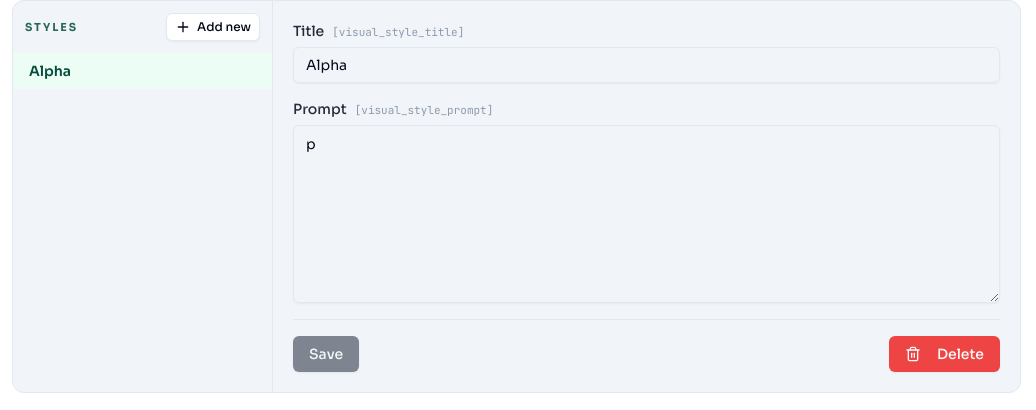
Test: VisualStyleGallery — create flow › "Add new" opens an empty pane with title/prompt cleared
Expected: the field showing "Alpha" is shown, top-left (293, 47), bottom-right (1000, 83)
Click the button "Add new". click: [213, 27]
box: top-left (166, 13), bottom-right (260, 41)
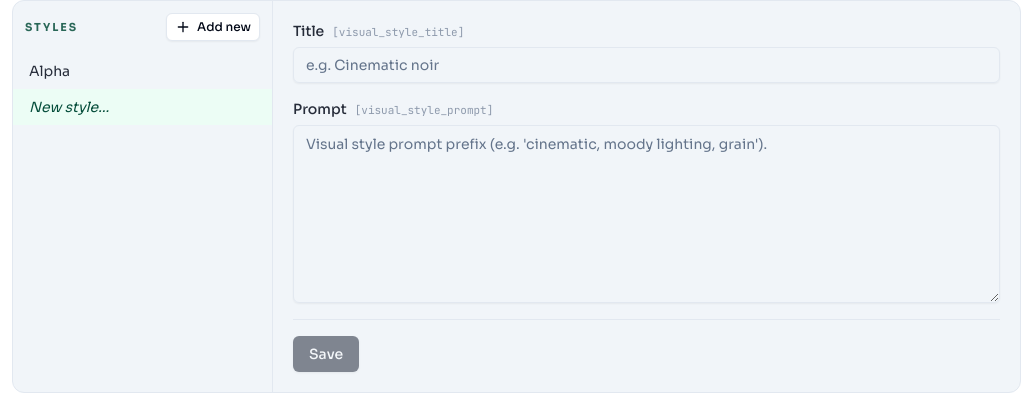
Now the field labelled "Title [visual_style_title]" is empty, box top-left (293, 47), bottom-right (1000, 83)
Now the text box labelled "Prompt [visual_style_prompt]" is empty, box top-left (293, 125), bottom-right (1000, 303)
Now the button "Delete" is gone
